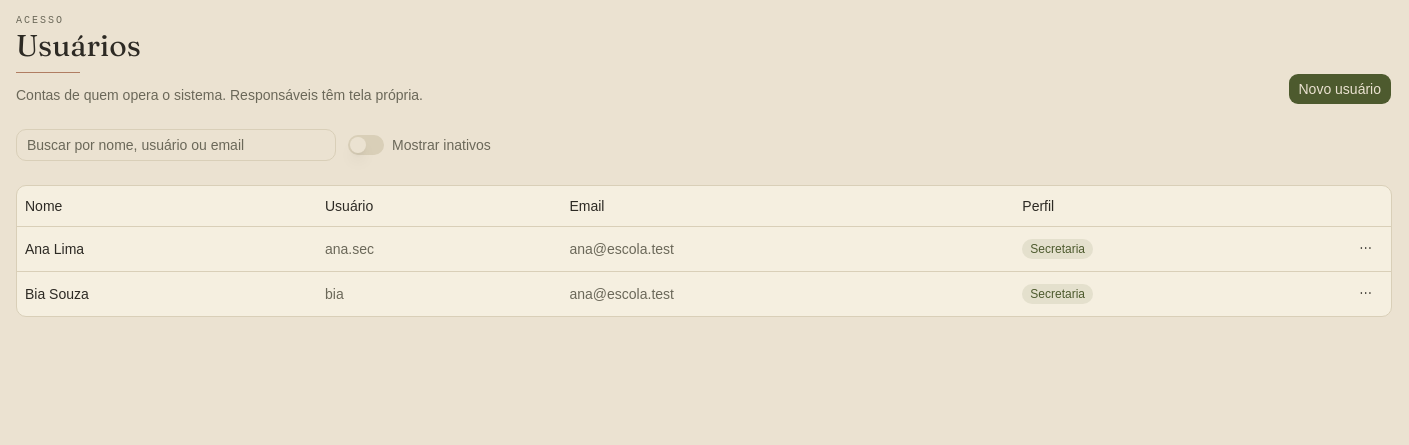
Test: UsuariosPage › não oferece desativar a própria conta
Expected: the text "Ana Lima" is shown, [25,240,84,256]
Step 1. Click the button named "Ações de ana.sec" → (1366, 248), box [1348,234,1383,262]
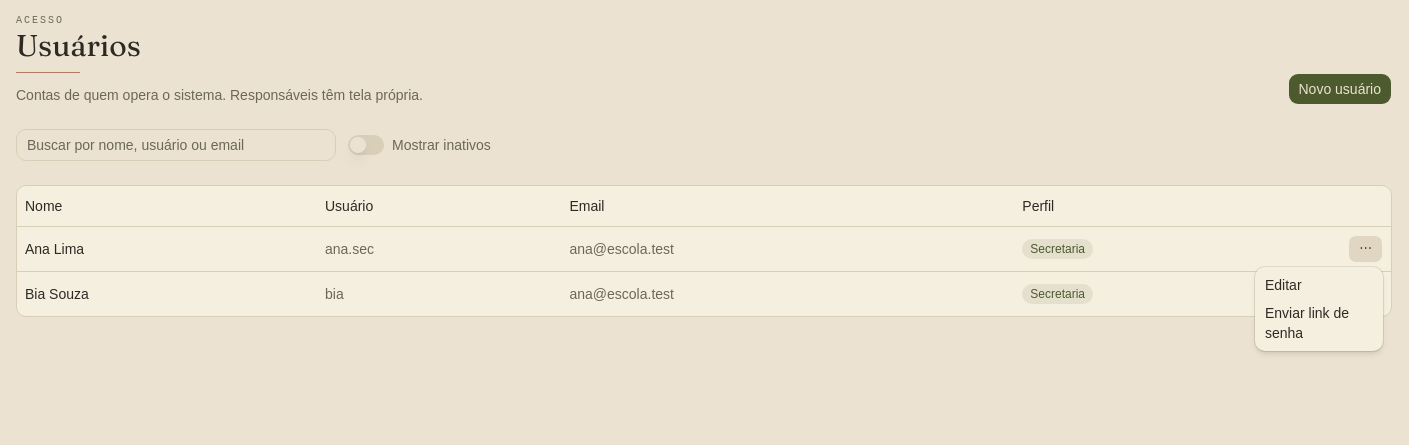
Expected: the text "Desativar" is not shown
Expected: the menu item "Editar" is shown, [1265,277,1302,293]
Step 2. Press Escape
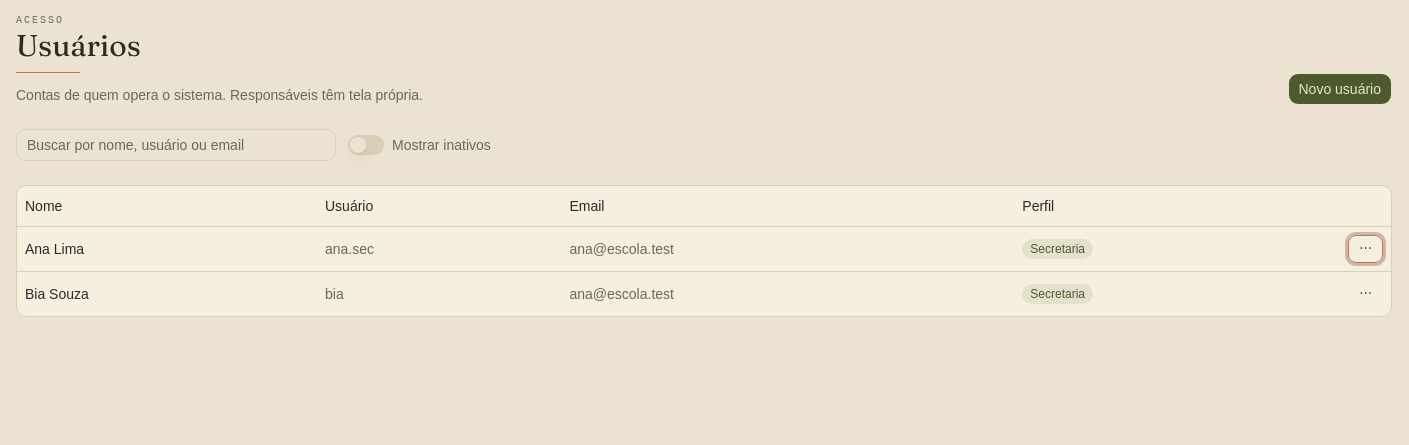
Step 3. Click the button named "Ações de bia" → (1366, 294), box [1348,280,1383,308]
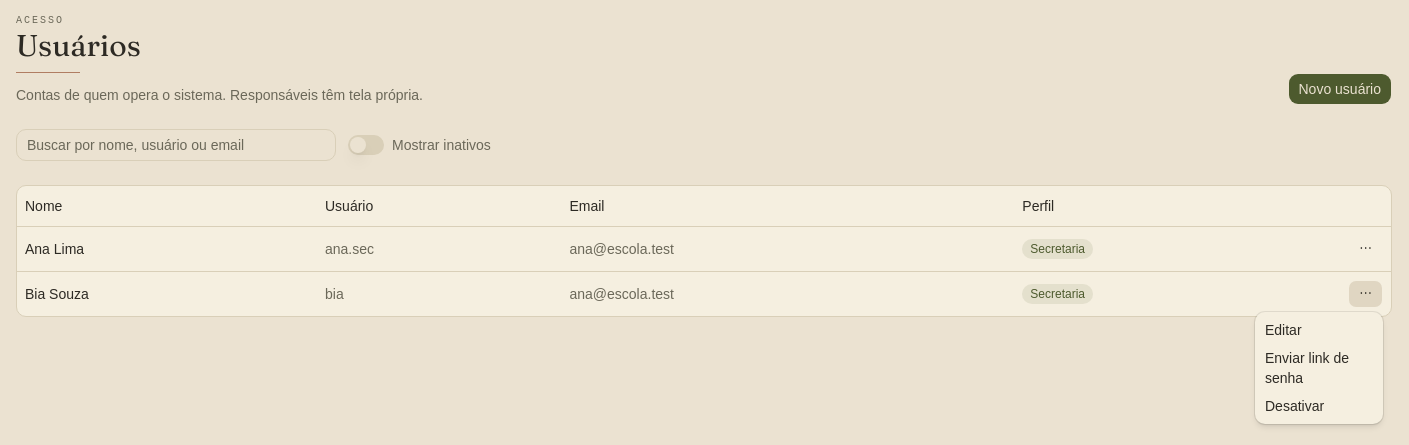
Expected: the menu item "Desativar" is shown, [1265,398,1324,414]
